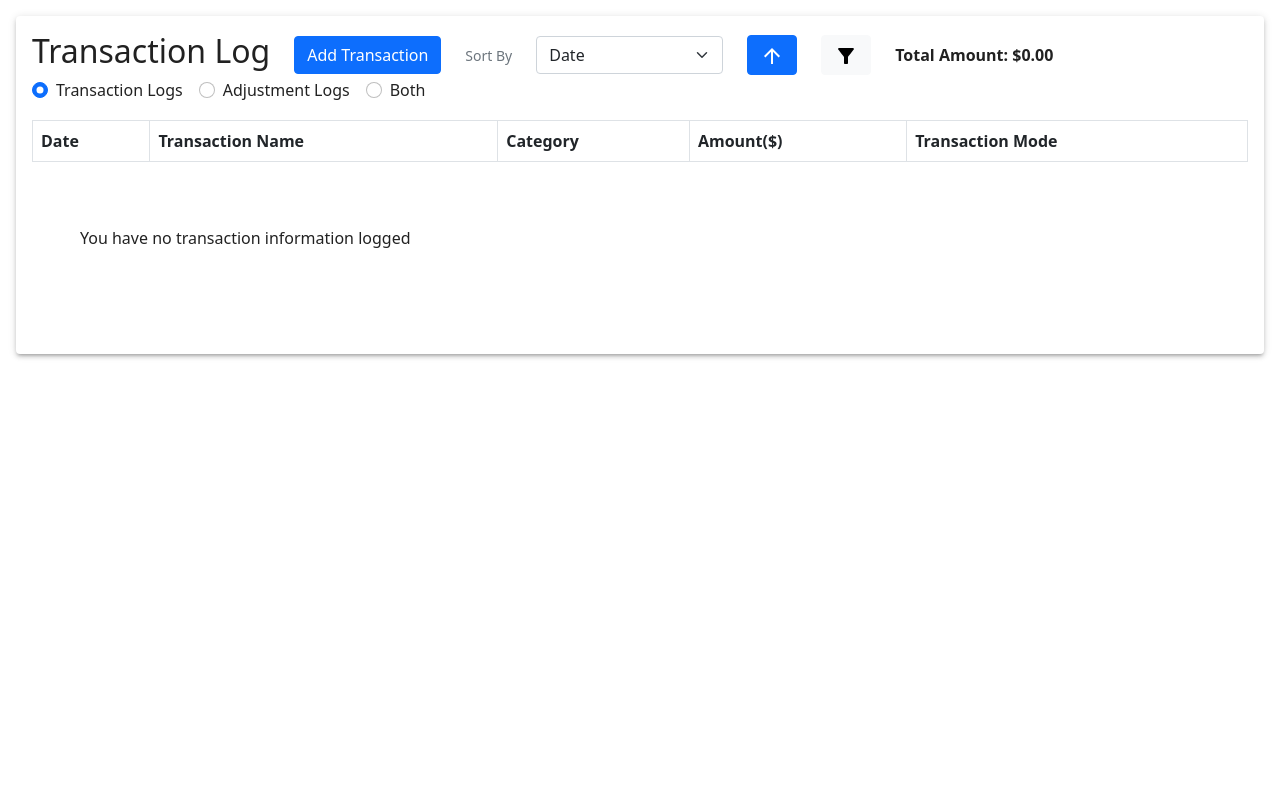
Test: transaction modal appears/disappears on click
Expected: the text "Add New Transaction" is not shown
Click the button "Add Transaction" at (368, 55), box [294,36,441,74]
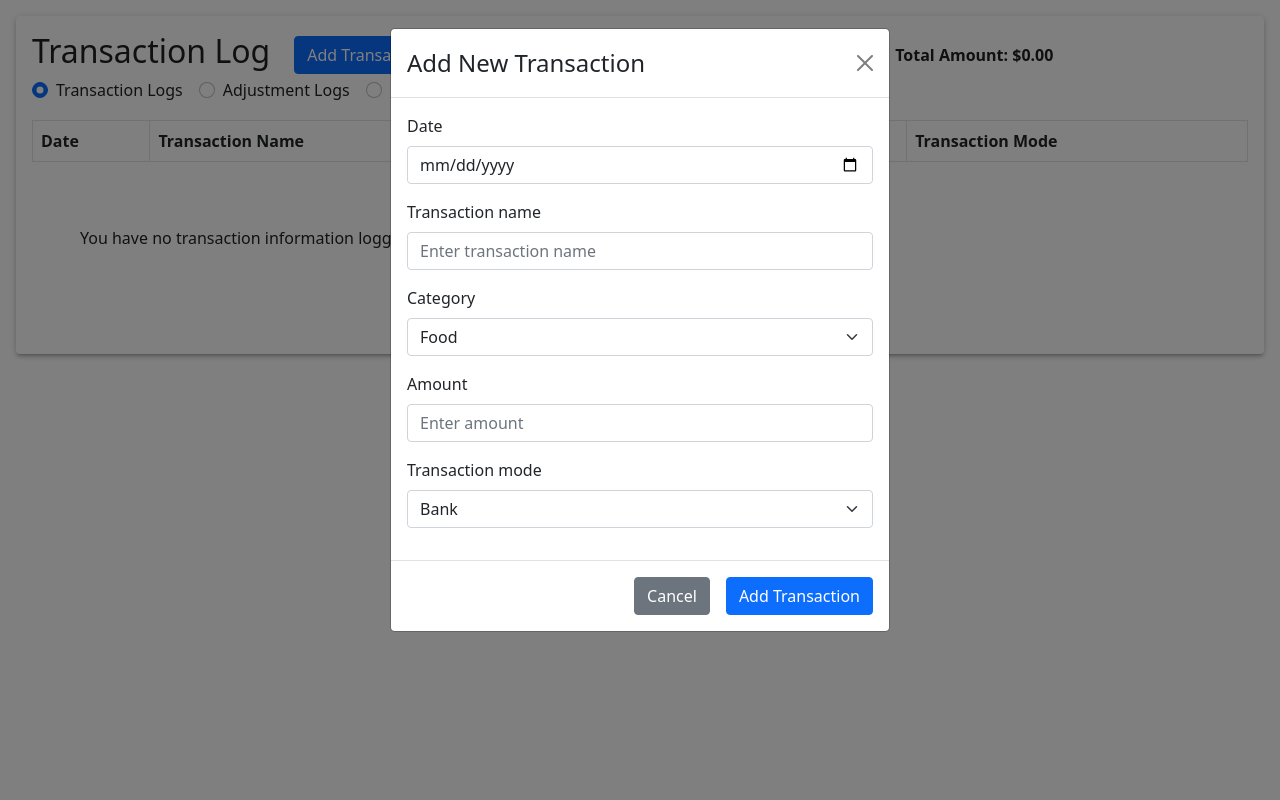
Expected: the text "Add New Transaction" is shown, [407,45,645,81]
Click the button "Cancel" at (672, 596), box [634,577,710,615]
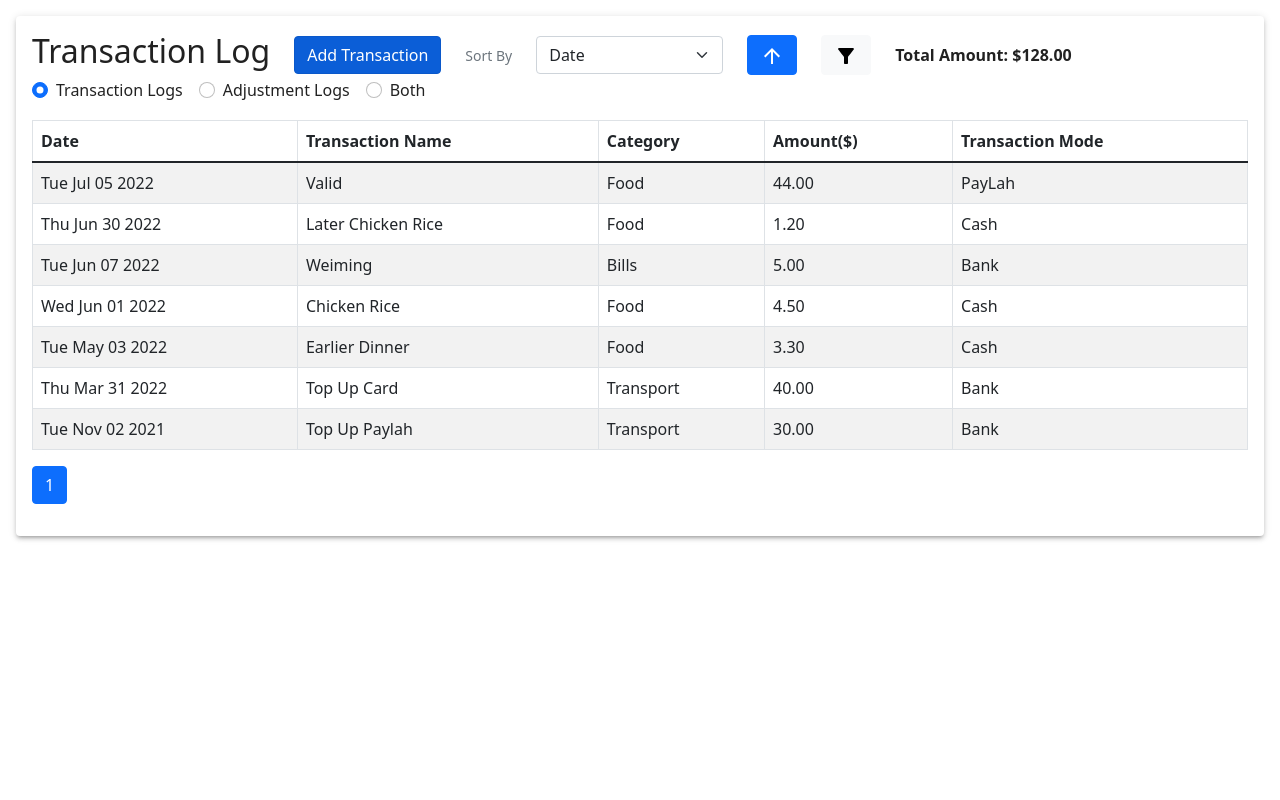
Expected: the text "Add New Transaction" is gone
